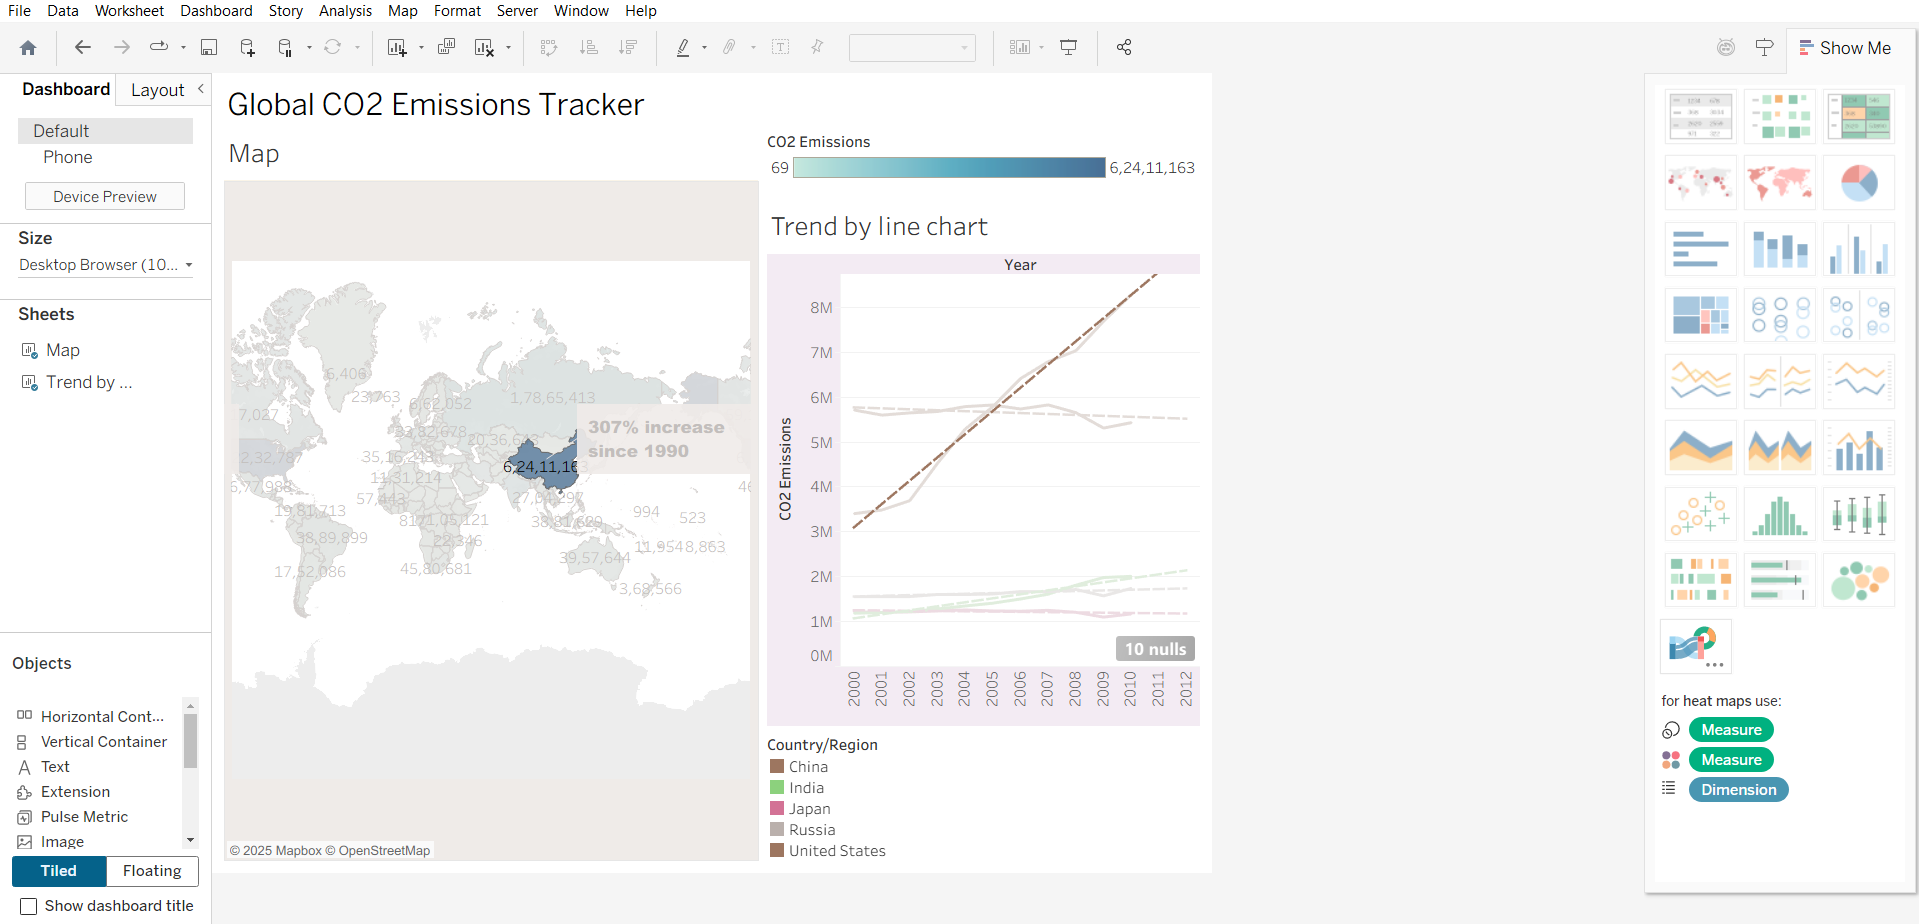

The dashboard page shown, as its layout file describes it:
{"tool":"tableau","page":{"name":"Dashboard 1","canvas":[1000,800],"ordinal":0},"visuals":[{"type":"title","box":[8,8,984,46]},{"type":"worksheet","title":"Map","mark":"Multipolygon","box":[8,54,543,738]},{"type":"legend","title":"Map","param":"[World Indicators].[sum:CO2 Emissions:qk]","box":[551,54,441,73]},{"type":"worksheet","title":"Trend by line chart","mark":"Automatic","rows":["CO2 Emissions"],"cols":["Year"],"box":[551,127,441,530]},{"type":"legend","title":"Trend by line chart","param":"[World Indicators].[none:Country/Region:nk]","box":[551,657,441,135]}]}

Visuals, with their boxes on the page's 1000x800 design canvas (x1, y1, x2, y2). These are canvas units, not pixel positions in the 1919x924 screenshot, which may show the page scaled, cropped or inside an application window:
title: 8,8,992,54
"Map" worksheet (Multipolygon marks): 8,54,551,792
"Map" legend: 551,54,992,127
"Trend by line chart" worksheet: 551,127,992,657
"Trend by line chart" legend: 551,657,992,792
